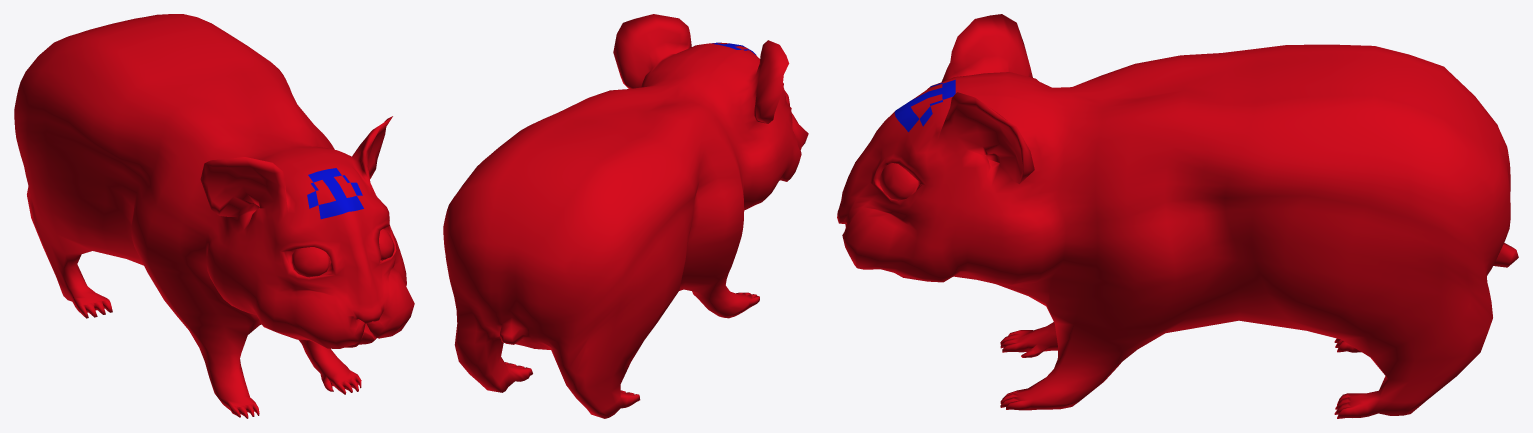
The model's file is cult_gerbil.fbx.
3 renders of one model, left to right at view 1: azimuth 30°, elevation 25°; view 2: azimuth 150°, elevation 25°; view 3: azimuth 270°, elevation 25°, orthographic. The views are drawn at different scales.
Visible parts, largest first — view 1: Cube.004_Cube.007; view 2: Cube.004_Cube.007; view 3: Cube.004_Cube.007.
Part boxes in pixels (box(x1,y1,x2,y2)): Cube.004_Cube.007: box(14, 14, 414, 418); Cube.004_Cube.007: box(443, 14, 808, 418); Cube.004_Cube.007: box(837, 14, 1518, 418).
Size of the model in its own units: 414 by 519 by 998.
